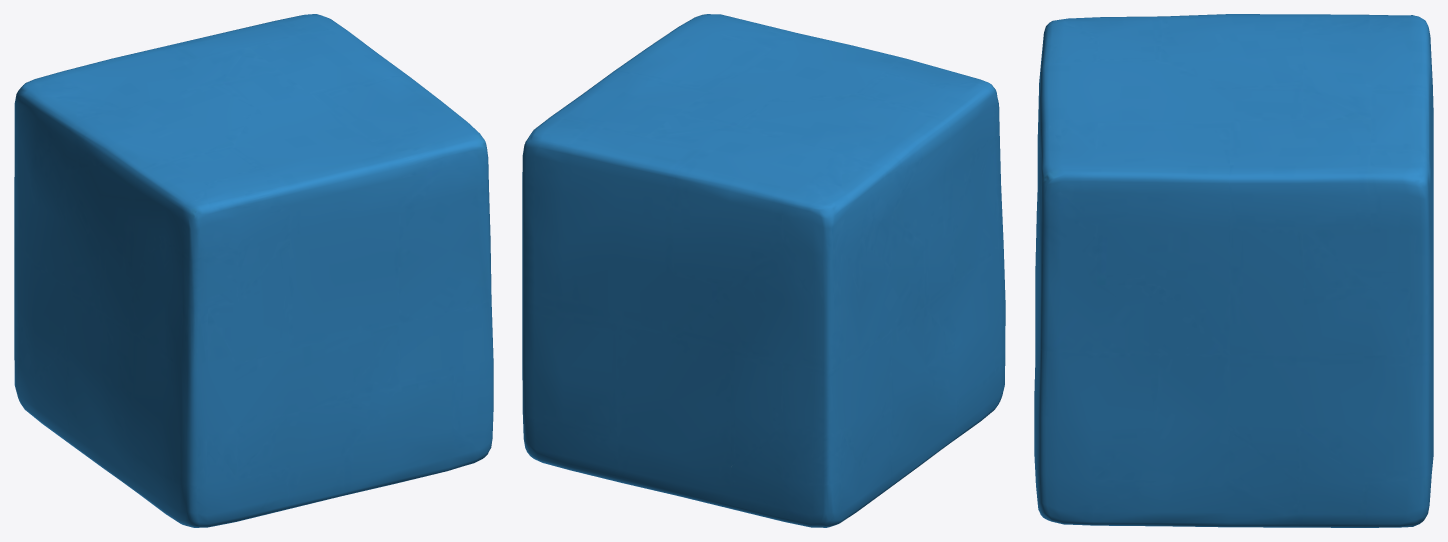
File: block_lightblue_cube.glb
3 renders of one model, left to right at view 1: azimuth 30°, elevation 25°; view 2: azimuth 150°, elevation 25°; view 3: azimuth 270°, elevation 25°, orthographic. The views are drawn at different scales.
Parts seen in each view (by area): view 1: babyblue_block__export_tmp; view 2: babyblue_block__export_tmp; view 3: babyblue_block__export_tmp.
Boxes of the visible parts, bbox=[...] form: babyblue_block__export_tmp: bbox=[14, 14, 493, 527]; babyblue_block__export_tmp: bbox=[522, 14, 1005, 527]; babyblue_block__export_tmp: bbox=[1034, 14, 1433, 527].
Size of the model in its own units: 1.35 by 1.35 by 1.35.
Materials: 1 (1 with a texture image).
